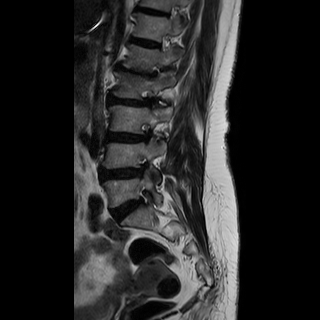RFS3: (137, 115, 158, 150), (132, 153, 154, 183)
